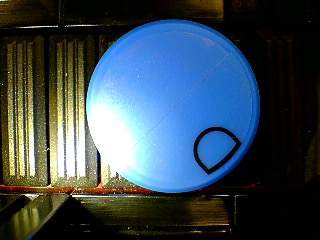MIPO1: (85, 19, 261, 194)
